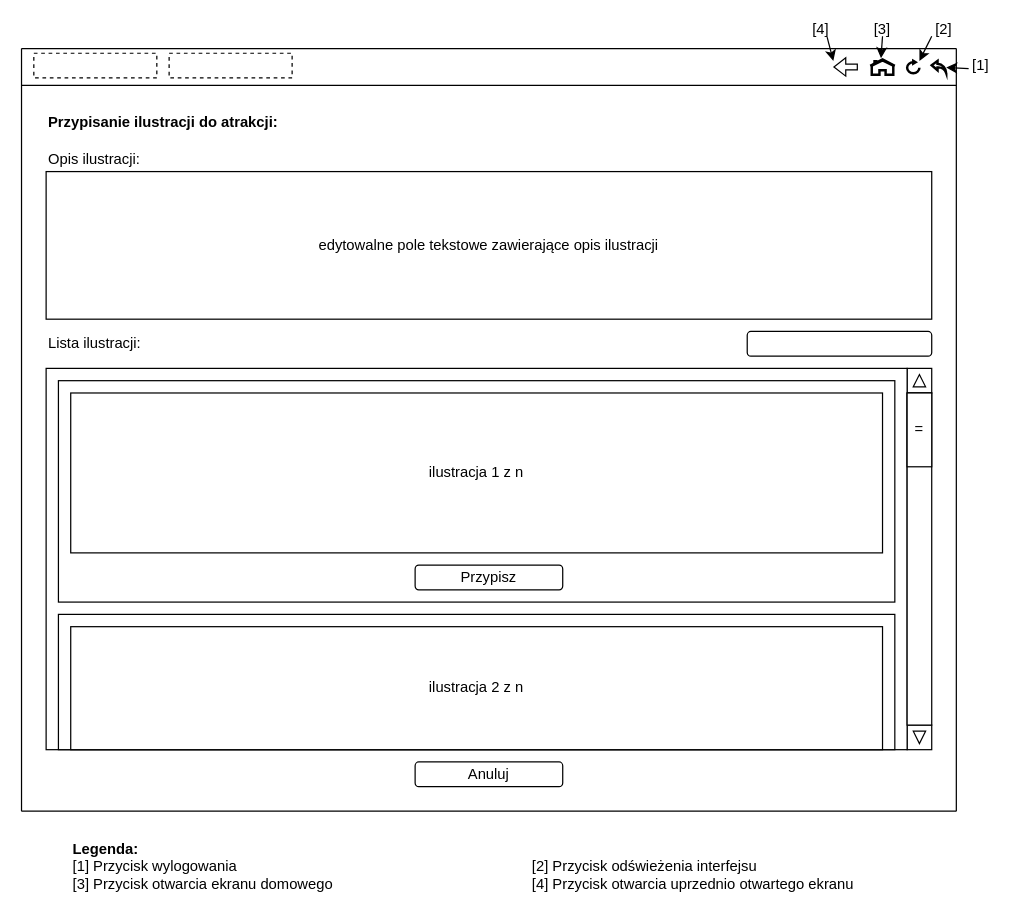
The diagram is 1015 pixels wide and 924 high, and some of its shapes have lost their labels. The shapes that lost their labels are listed below. From the top down, each one's box as (x1, y1, x2, y2) in pixels, then its label:
(33, 52, 157, 78): login
(168, 52, 292, 78): rola
(746, 330, 932, 356): Przypisz nową ilustrację
